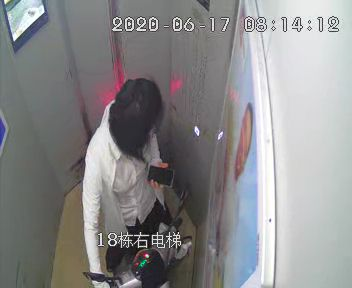Electric-bicycle: (81, 182, 200, 286)
